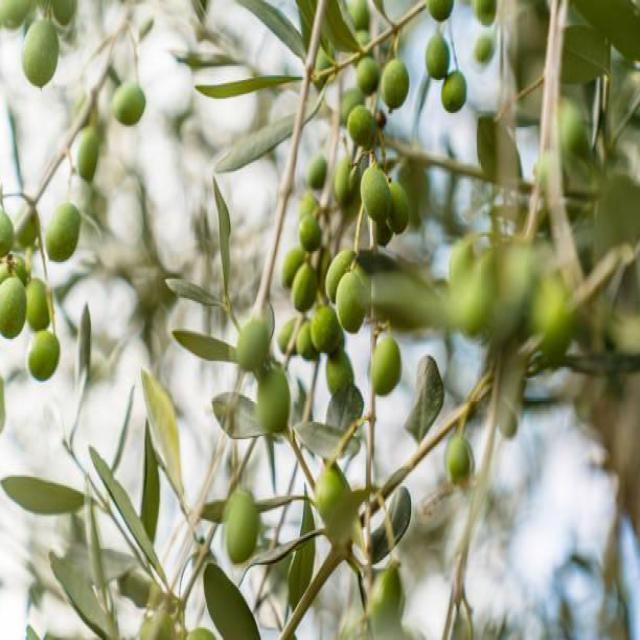Healthy: (224, 489, 259, 563), (23, 19, 59, 88), (281, 245, 317, 309), (255, 372, 292, 433), (235, 315, 271, 375), (46, 202, 81, 260), (361, 163, 392, 223), (370, 337, 401, 395), (337, 273, 366, 331), (27, 331, 59, 380), (0, 278, 25, 337), (111, 82, 145, 125), (381, 60, 409, 111), (347, 105, 379, 149), (313, 306, 340, 351), (427, 31, 449, 77), (441, 72, 465, 111), (358, 56, 379, 96), (299, 218, 322, 253)
